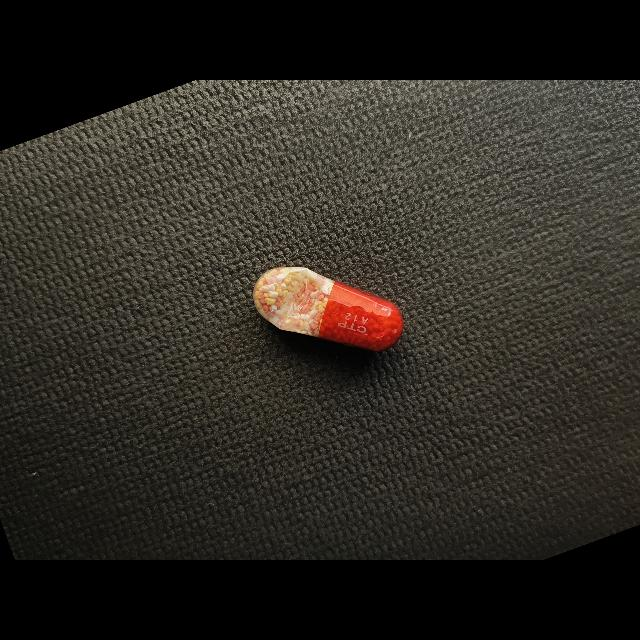Defective Capsule: (253, 267, 403, 351)
